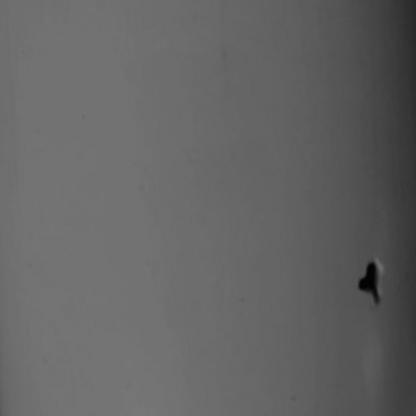kongdong: (350, 243, 389, 314)
